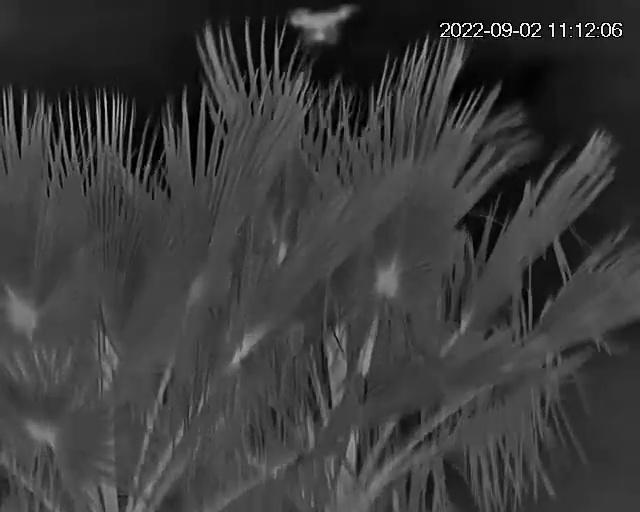DJI-Phantom: (291, 7, 356, 45)
